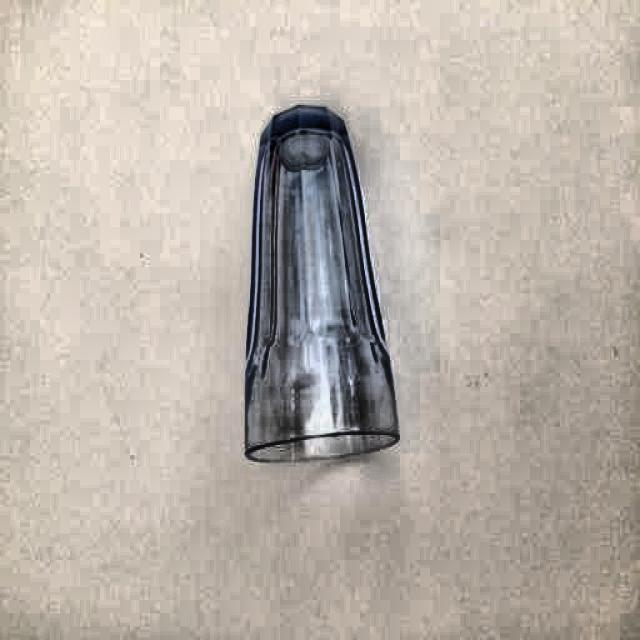glass: (242, 100, 402, 465)
